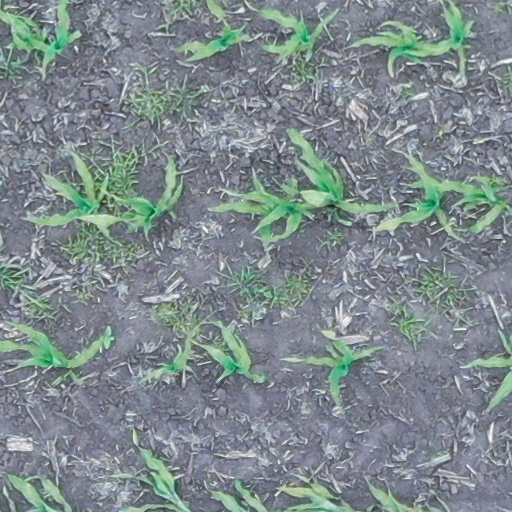planta: (284, 125, 388, 217), (24, 148, 125, 239), (370, 153, 466, 244), (237, 167, 314, 247), (8, 318, 116, 371), (351, 17, 441, 77), (304, 336, 381, 404), (260, 6, 342, 65), (448, 172, 509, 236), (140, 323, 201, 384), (198, 317, 253, 380), (110, 192, 171, 236), (159, 156, 184, 206), (207, 198, 264, 217), (40, 54, 47, 61), (304, 199, 311, 206), (303, 198, 310, 205)
